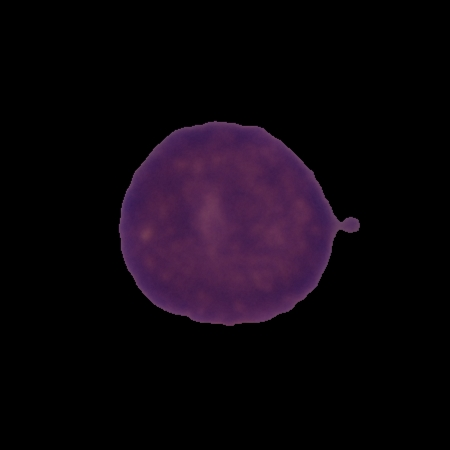HEM: (116, 117, 362, 328)
